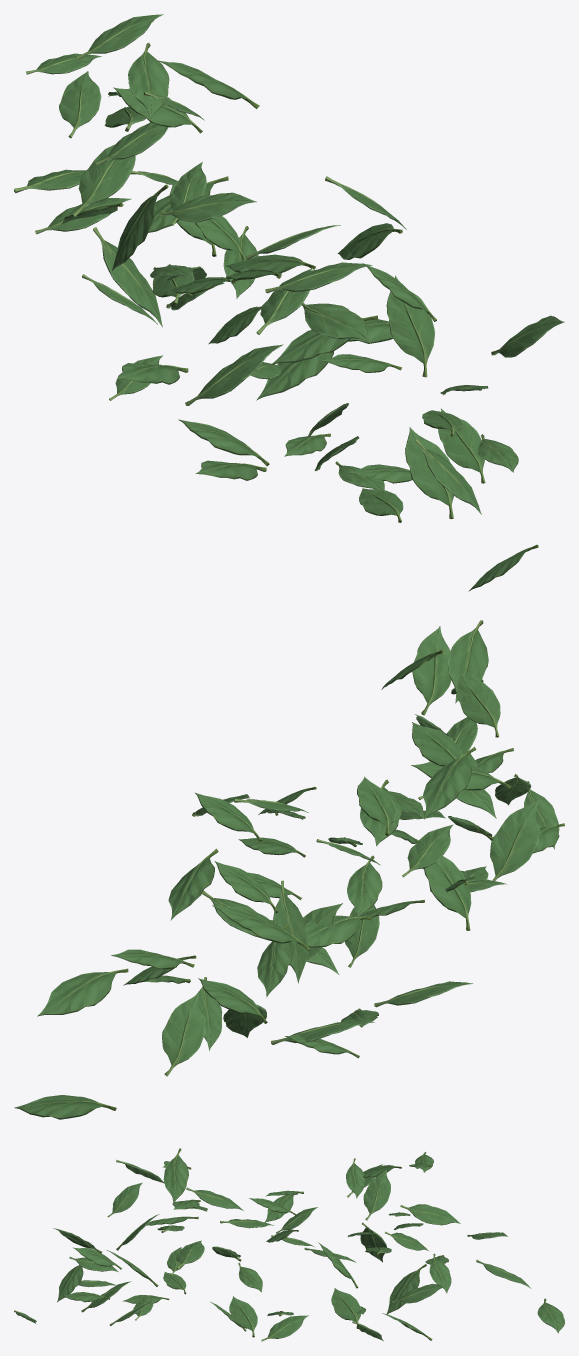
The model's file is holy_canopy18_complete.glb.
3 renders of one model, top to bottom at view 1: azimuth 30°, elevation 25°; view 2: azimuth 150°, elevation 25°; view 3: azimuth 270°, elevation 25°, orthographic. The views are drawn at different scales.
Parts seen in each view (by area): view 1: holy_canopy18; view 2: holy_canopy18; view 3: holy_canopy18.
Part boxes in pixels (x1=…): holy_canopy18: x1=14, y1=14, x2=564, y2=591; holy_canopy18: x1=14, y1=620, x2=564, y2=1119; holy_canopy18: x1=14, y1=1148, x2=564, y2=1341.
Bounding box in the file's own units: 7.27 × 9.3 × 24.52.
1 material, 1 textured.
